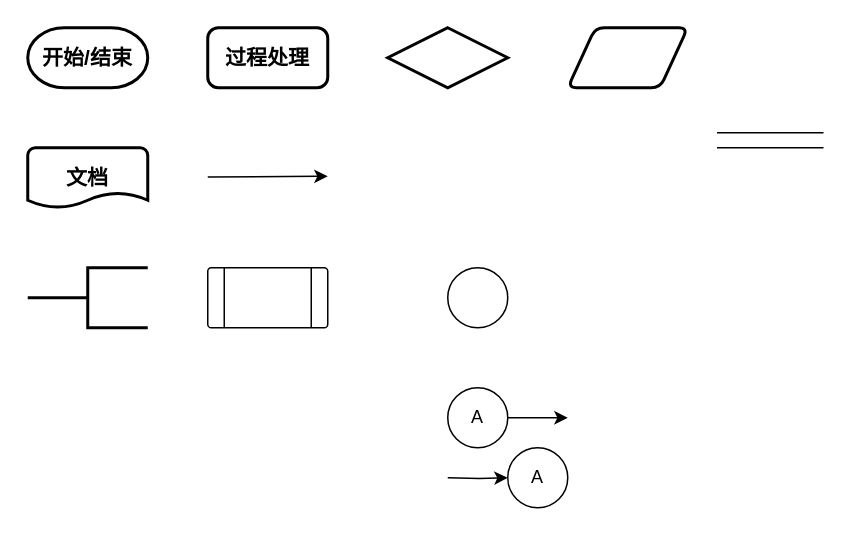
Image size: 849x534. Some labels were removed from this diagram. The shapes that lost their labels are listed below. From the top down, each one's centre as x and y in pixels, then its label:
At [447,57]: "判断".
At [627,57]: "输入/输出".
